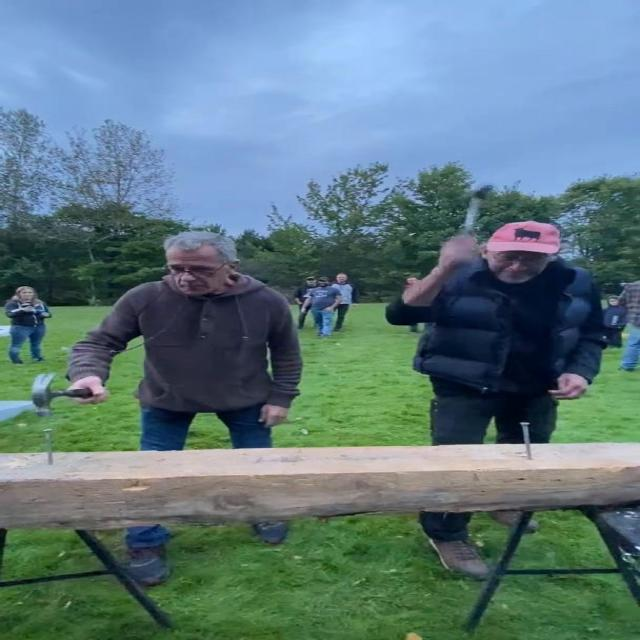hammer: (31, 371, 96, 417)
